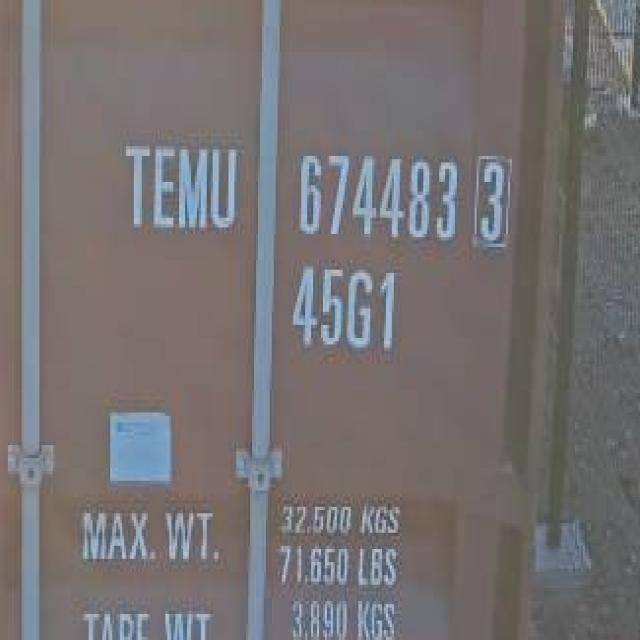dv: (466, 143, 513, 253)
owner: (118, 134, 241, 241)
serial: (293, 144, 461, 248)
size: (279, 261, 406, 356)
